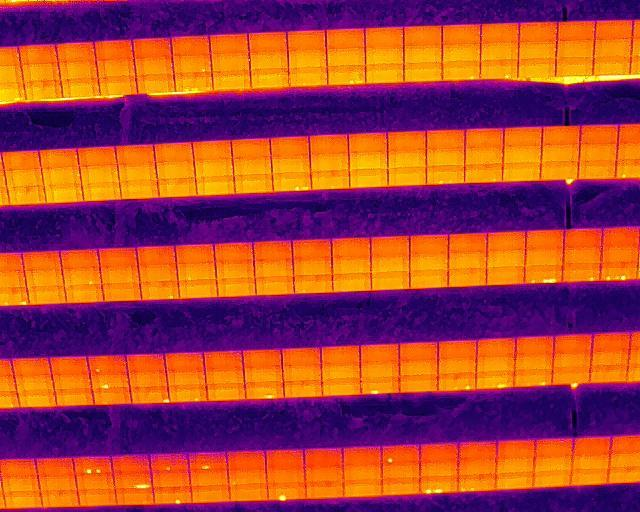Cell: (480, 59, 519, 79), (141, 281, 180, 300), (187, 453, 228, 471), (172, 55, 212, 73), (441, 61, 481, 79), (149, 453, 189, 471), (311, 171, 350, 189), (380, 445, 421, 462), (88, 356, 128, 373), (176, 263, 216, 280), (465, 165, 504, 182), (562, 264, 601, 281), (267, 483, 305, 500), (360, 377, 400, 393), (63, 268, 101, 284), (90, 374, 130, 389), (130, 387, 170, 402), (154, 488, 191, 504), (513, 370, 551, 385), (169, 387, 208, 401)
Cell-Multi: (173, 73, 213, 91), (326, 66, 365, 84), (426, 166, 465, 184), (599, 263, 639, 280), (73, 457, 113, 474), (418, 476, 458, 493), (273, 173, 311, 190), (437, 374, 476, 390), (457, 475, 495, 490)
No-Anomaly: (154, 142, 194, 163), (287, 49, 327, 70), (156, 160, 195, 181), (348, 133, 388, 153), (248, 50, 288, 70), (196, 175, 234, 196), (556, 21, 595, 41), (249, 68, 288, 88), (194, 159, 233, 179), (5, 169, 44, 189), (387, 132, 427, 151), (231, 139, 271, 158), (117, 144, 155, 164), (293, 274, 333, 293), (593, 20, 633, 39), (554, 58, 594, 77), (158, 178, 196, 198), (119, 180, 157, 200), (175, 244, 215, 263), (342, 446, 382, 465), (163, 353, 205, 371), (542, 127, 581, 146), (309, 135, 348, 154), (77, 147, 116, 166), (426, 149, 465, 168), (409, 269, 448, 288), (370, 271, 409, 290), (441, 25, 480, 44), (363, 27, 402, 46), (12, 357, 51, 376), (96, 59, 135, 78), (365, 64, 404, 83), (288, 66, 327, 85), (212, 71, 251, 90), (117, 163, 156, 182), (80, 164, 119, 183), (563, 229, 602, 248), (524, 230, 563, 249), (534, 438, 573, 457), (457, 440, 496, 459), (171, 36, 210, 55), (132, 38, 171, 57), (593, 39, 632, 58), (441, 43, 480, 62), (348, 152, 389, 170), (485, 249, 526, 267), (247, 32, 288, 50), (504, 128, 542, 147), (194, 140, 232, 159), (541, 144, 579, 163), (41, 149, 79, 168), (255, 276, 293, 295), (211, 53, 249, 72), (21, 63, 59, 82), (136, 74, 174, 93), (61, 249, 99, 268), (210, 35, 248, 54), (579, 125, 619, 143), (578, 143, 618, 161), (216, 278, 256, 296), (480, 24, 520, 42), (514, 336, 554, 354), (402, 26, 442, 44), (49, 357, 89, 375), (326, 30, 366, 48), (403, 45, 443, 63), (403, 63, 443, 81), (22, 81, 62, 99), (41, 166, 81, 184), (349, 170, 389, 188), (43, 184, 83, 202), (370, 237, 410, 255), (293, 256, 333, 274), (554, 40, 594, 58), (55, 43, 95, 61), (125, 355, 167, 372), (520, 23, 557, 42), (19, 45, 56, 64), (99, 77, 136, 96), (426, 131, 465, 149), (270, 138, 309, 156), (503, 145, 542, 163), (332, 274, 371, 292), (178, 280, 217, 298), (102, 283, 141, 301), (553, 334, 592, 352), (476, 339, 515, 357), (243, 350, 282, 368), (287, 31, 326, 49), (365, 46, 404, 64), (517, 59, 556, 77), (388, 151, 427, 169), (2, 151, 41, 169), (309, 154, 348, 172), (271, 155, 310, 173), (387, 168, 426, 186), (81, 183, 120, 201), (486, 230, 525, 248), (447, 250, 486, 268), (409, 252, 448, 270), (254, 257, 293, 275), (485, 266, 524, 284), (343, 463, 382, 481), (228, 483, 267, 501), (136, 246, 177, 263), (16, 391, 57, 408), (59, 61, 97, 79), (540, 161, 578, 179), (235, 175, 273, 193), (139, 263, 177, 281), (420, 442, 458, 460), (94, 40, 132, 58), (518, 41, 556, 59), (464, 148, 504, 165), (203, 352, 243, 369), (577, 161, 617, 178), (292, 239, 332, 256), (214, 243, 254, 260), (599, 246, 639, 263), (561, 248, 601, 265), (215, 261, 255, 278), (100, 266, 140, 283), (24, 269, 64, 286), (35, 458, 75, 475), (190, 485, 230, 502), (29, 286, 66, 304), (593, 334, 630, 352), (8, 185, 45, 203), (0, 458, 37, 476), (438, 342, 477, 359), (399, 344, 438, 361), (207, 384, 246, 401), (233, 158, 272, 175), (502, 164, 541, 181), (601, 228, 640, 245), (448, 232, 487, 249), (409, 235, 448, 252), (332, 239, 371, 256), (98, 248, 137, 265), (22, 252, 61, 269), (331, 256, 370, 273), (447, 268, 486, 285), (226, 452, 265, 469), (381, 462, 420, 479), (480, 43, 519, 60), (14, 376, 55, 392), (78, 490, 119, 506), (465, 131, 503, 148), (65, 285, 103, 302), (327, 49, 365, 66), (593, 57, 631, 74), (135, 57, 173, 74), (62, 80, 100, 97), (496, 439, 534, 456), (382, 478, 420, 495), (360, 346, 400, 362), (321, 347, 361, 363), (281, 349, 321, 365), (513, 354, 553, 370), (282, 366, 322, 382), (283, 382, 323, 398), (253, 241, 293, 257), (303, 449, 343, 465), (533, 457, 573, 473), (419, 461, 459, 477), (570, 469, 607, 486), (437, 358, 476, 374), (399, 360, 438, 376), (322, 364, 361, 380), (398, 376, 437, 392), (93, 389, 132, 405), (54, 390, 93, 406), (457, 459, 496, 475), (304, 465, 343, 481), (189, 470, 228, 486), (76, 474, 115, 490), (38, 474, 77, 490), (1, 476, 40, 492), (115, 488, 154, 504), (41, 491, 80, 507), (127, 372, 168, 387), (591, 352, 629, 368), (265, 452, 303, 468), (495, 457, 533, 473), (151, 471, 189, 487), (304, 482, 342, 498), (359, 362, 399, 377), (166, 372, 206, 387), (227, 470, 267, 485), (342, 481, 382, 496), (573, 437, 610, 453), (589, 368, 628, 383), (524, 249, 563, 264), (370, 256, 409, 271), (112, 455, 151, 470), (265, 469, 304, 484), (494, 474, 533, 489), (204, 371, 245, 385), (51, 375, 92, 389), (553, 353, 591, 368), (551, 369, 589, 384), (532, 473, 570, 488), (2, 492, 42, 506), (573, 454, 610, 469), (475, 358, 514, 372), (244, 368, 283, 382), (322, 380, 360, 394), (610, 436, 640, 453), (607, 469, 640, 484), (608, 453, 640, 468)
Unclassified: (524, 265, 562, 283), (114, 471, 152, 488), (245, 383, 285, 399), (476, 373, 514, 389)
